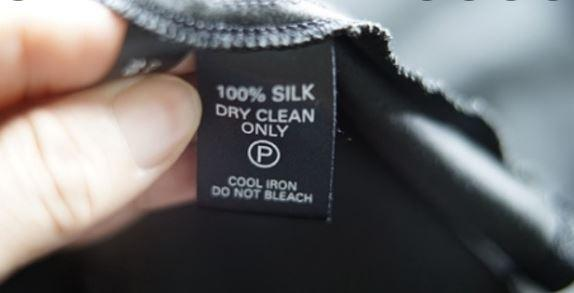dry_clean_any_solvent_except_trichloroethylene: (248, 138, 282, 168)
